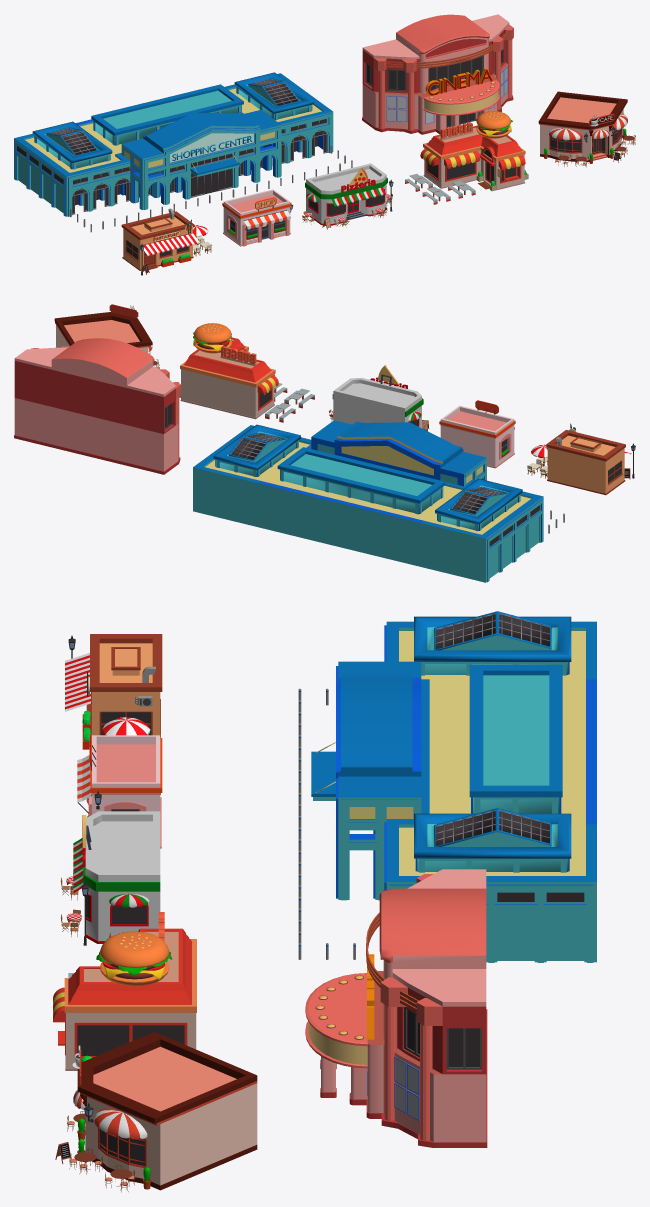
File: Building.glb
3 renders of one model, top to bottom at view 1: azimuth 30°, elevation 25°; view 2: azimuth 150°, elevation 25°; view 3: azimuth 270°, elevation 25°, orthographic. The views are drawn at different scales.
Visible parts, largest first — view 1: ShoppingCenterBuilding_Texture_buildings1_0.001, Cinema_Texture_buildings1_0.001, BurgerBuilding_Texture_buildings1_0.001, CafeBuilding_Texture_buildings1_0.001, PizzaBuilding_Texture_buildings1_0.001, RestaurantBuilding_Texture_buildings1_0.001, ShopBuilding_Texture_buildings1_0.001; view 2: ShoppingCenterBuilding_Texture_buildings1_0.001, Cinema_Texture_buildings1_0.001, BurgerBuilding_Texture_buildings1_0.001, RestaurantBuilding_Texture_buildings1_0.001, PizzaBuilding_Texture_buildings1_0.001, ShopBuilding_Texture_buildings1_0.001, CafeBuilding_Texture_buildings1_0.001; view 3: ShoppingCenterBuilding_Texture_buildings1_0.001, Cinema_Texture_buildings1_0.001, CafeBuilding_Texture_buildings1_0.001, BurgerBuilding_Texture_buildings1_0.001, PizzaBuilding_Texture_buildings1_0.001, RestaurantBuilding_Texture_buildings1_0.001, ShopBuilding_Texture_buildings1_0.001.
Part boxes in pixels (x1,y1,x2,y2): ShoppingCenterBuilding_Texture_buildings1_0.001: (14,72,352,232); Cinema_Texture_buildings1_0.001: (362,14,513,134); BurgerBuilding_Texture_buildings1_0.001: (405,111,528,204); CafeBuilding_Texture_buildings1_0.001: (538,91,635,167); PizzaBuilding_Texture_buildings1_0.001: (305,163,387,225); RestaurantBuilding_Texture_buildings1_0.001: (121,208,212,275); ShopBuilding_Texture_buildings1_0.001: (222,189,293,246); ShoppingCenterBuilding_Texture_buildings1_0.001: (193,420,564,582); Cinema_Texture_buildings1_0.001: (14,338,180,474); BurgerBuilding_Texture_buildings1_0.001: (179,323,314,422); RestaurantBuilding_Texture_buildings1_0.001: (527,423,635,495); PizzaBuilding_Texture_buildings1_0.001: (332,365,423,428); ShopBuilding_Texture_buildings1_0.001: (439,400,515,468); CafeBuilding_Texture_buildings1_0.001: (54,304,159,368); ShoppingCenterBuilding_Texture_buildings1_0.001: (298,611,596,962); Cinema_Texture_buildings1_0.001: (305,869,487,1147); CafeBuilding_Texture_buildings1_0.001: (55,1032,257,1192); BurgerBuilding_Texture_buildings1_0.001: (53,912,196,1070); PizzaBuilding_Texture_buildings1_0.001: (73,811,160,943); RestaurantBuilding_Texture_buildings1_0.001: (65,634,162,749); ShopBuilding_Texture_buildings1_0.001: (77,734,162,848).
Bounding box in the file's own units: 34.27 × 5.57 × 15.9.
Materials: 1 (1 with a texture image).
